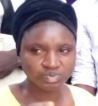without_facemask: (30, 60, 73, 90)
